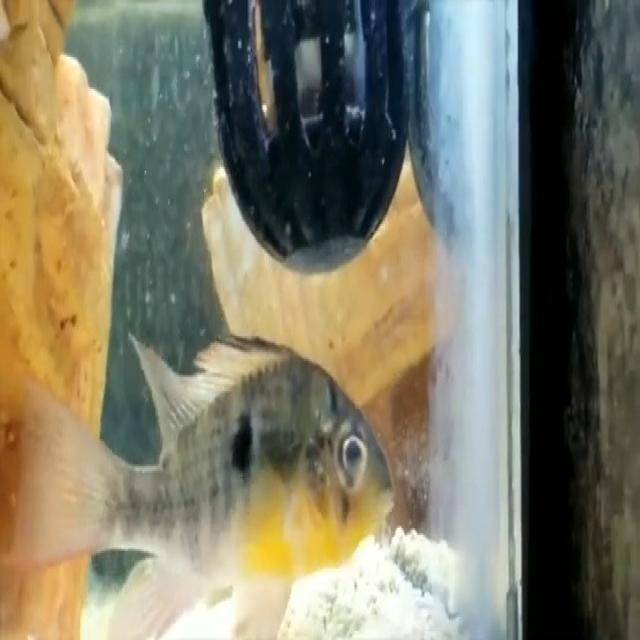fish: (28, 324, 404, 640)
